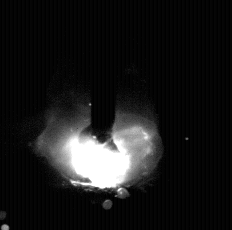arame: (91, 0, 117, 151)
poca: (34, 0, 164, 230)
